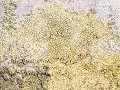Corrosion: (1, 1, 120, 90)
